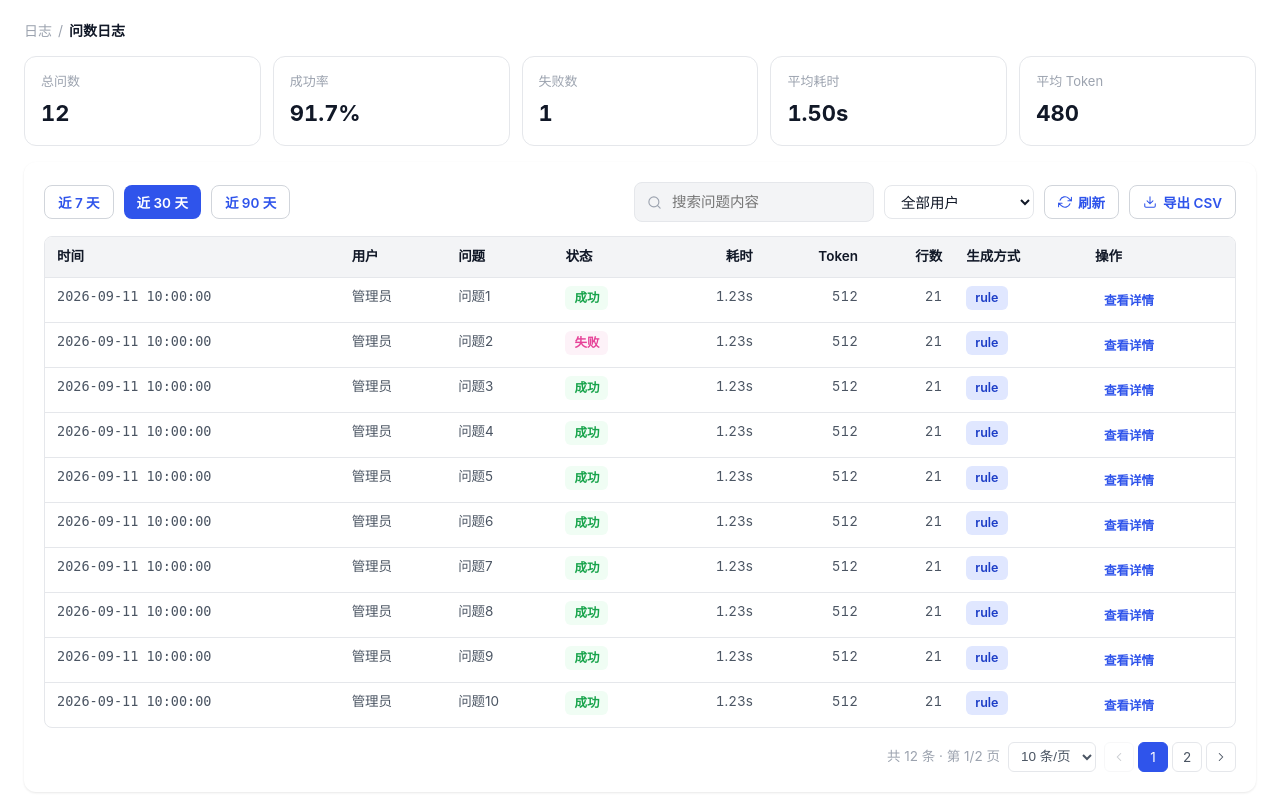
LogsPage — 表格 › 翻页展示剩余记录
This screenshot has width=1280, height=800.
expect the text "问题1" is shown: met, box 446,278 -> 553,322
Step 1. Click the button named "下一页" → (1221, 757), box 1206,742 -> 1236,772
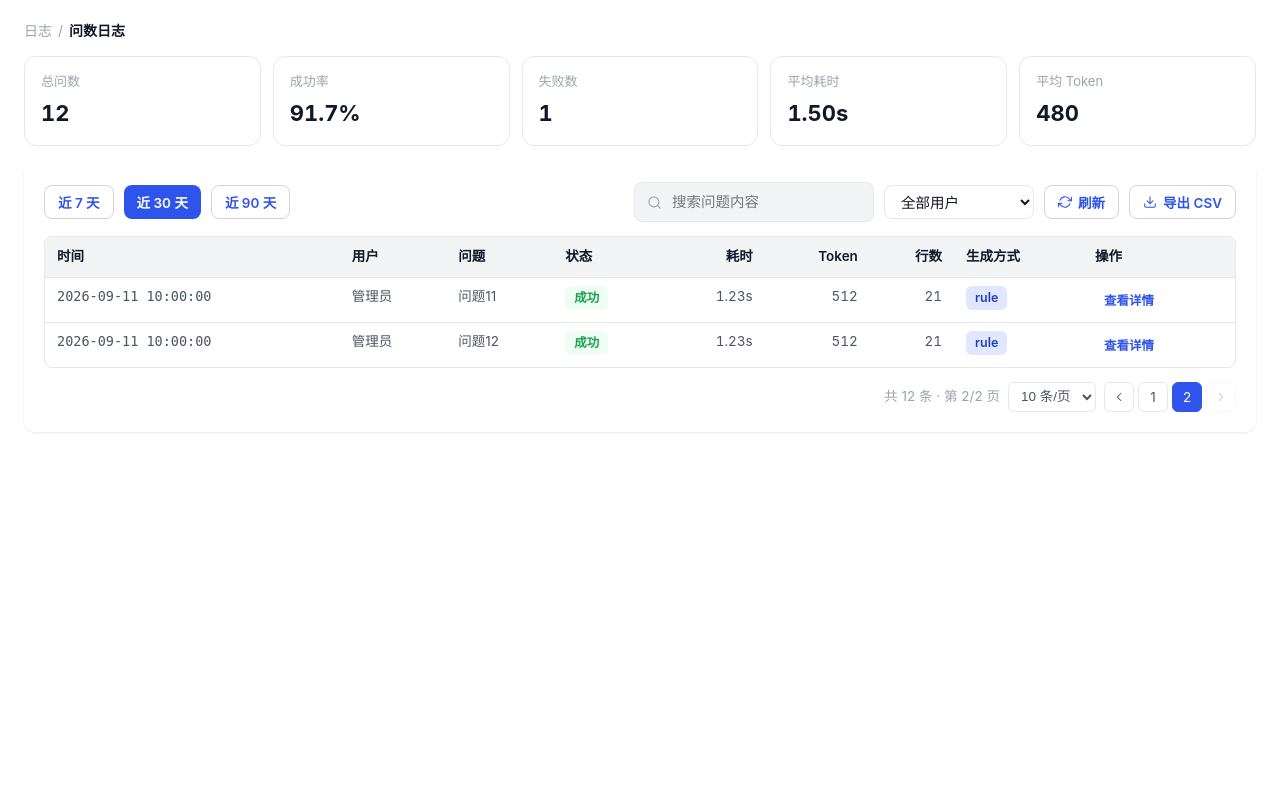
expect the text "问题11" is shown: met, box 446,278 -> 553,322
